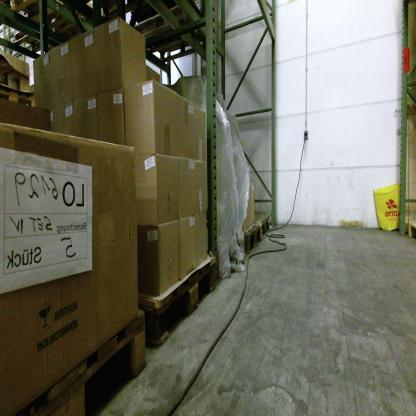pallet: (29, 310, 151, 413), (110, 250, 218, 358), (125, 5, 221, 64), (11, 7, 105, 65), (11, 1, 103, 37), (2, 83, 41, 111), (244, 209, 273, 236), (237, 221, 260, 254), (406, 219, 415, 241)
